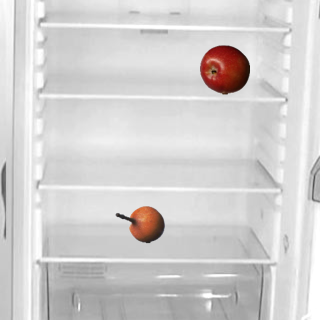Apple Braeburn: (199, 44, 249, 94)
Granadilla: (114, 199, 164, 249)
